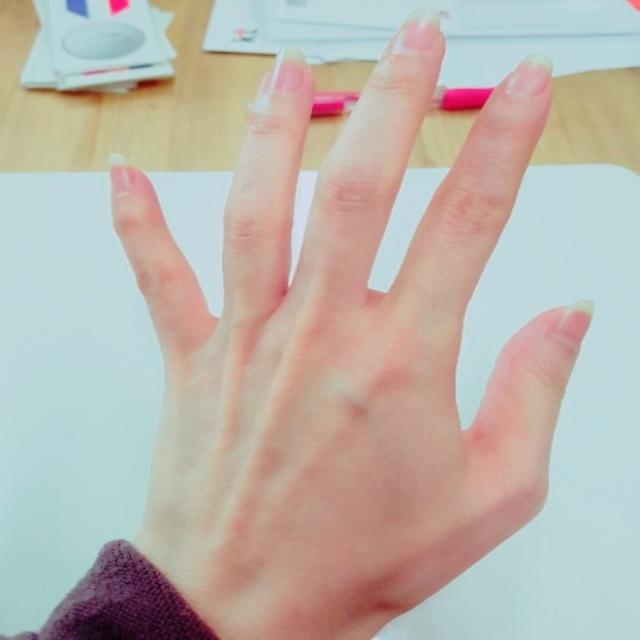Nail: (547, 298, 596, 346), (391, 9, 439, 54), (508, 55, 554, 100), (270, 46, 310, 91), (105, 154, 135, 195)
